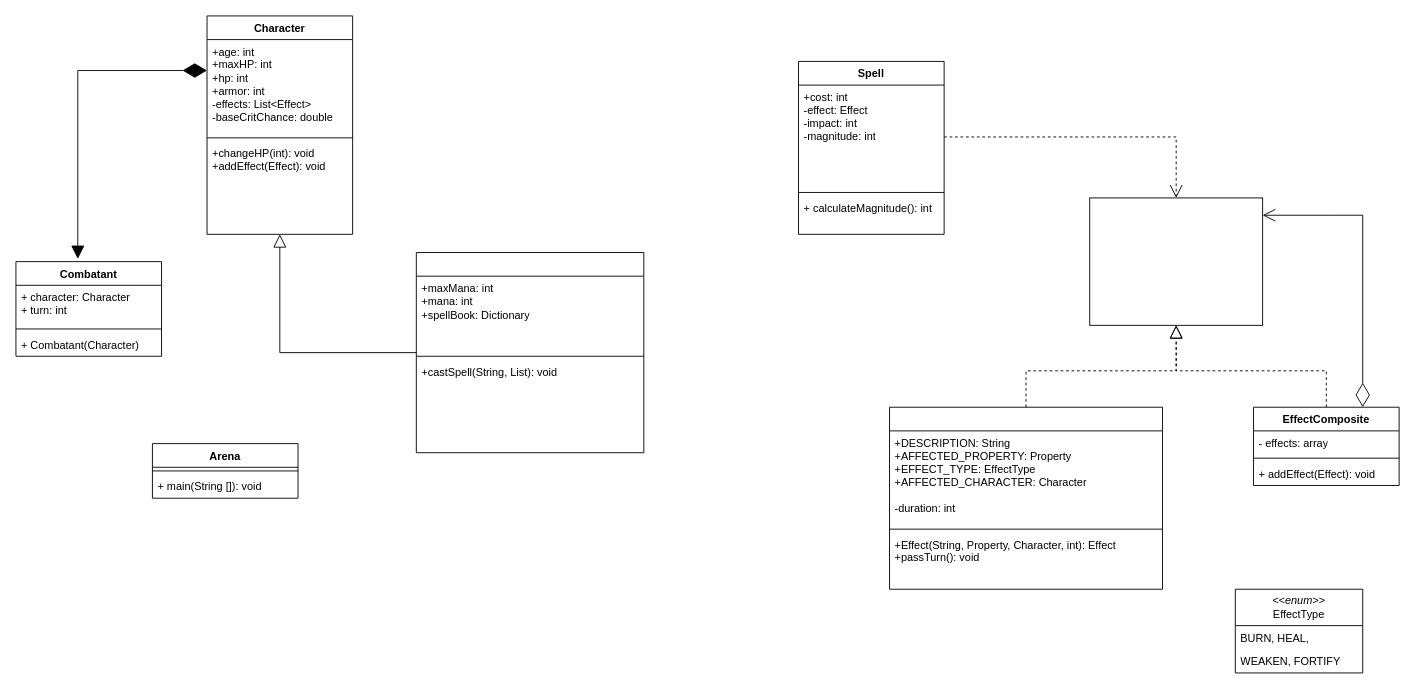
The diagram is 1415 pixels wide and 692 high, and some of its shapes have lost their labels. The box of each missing label's shape, as (x1, y1, x2, y2) in pixels:
<<Interface>> Effect + passTurn(): void + inflict(Character): void: (1089, 197, 1263, 325)
AtomicEffect: (889, 406, 1163, 589)
Wizard: (415, 252, 644, 453)
